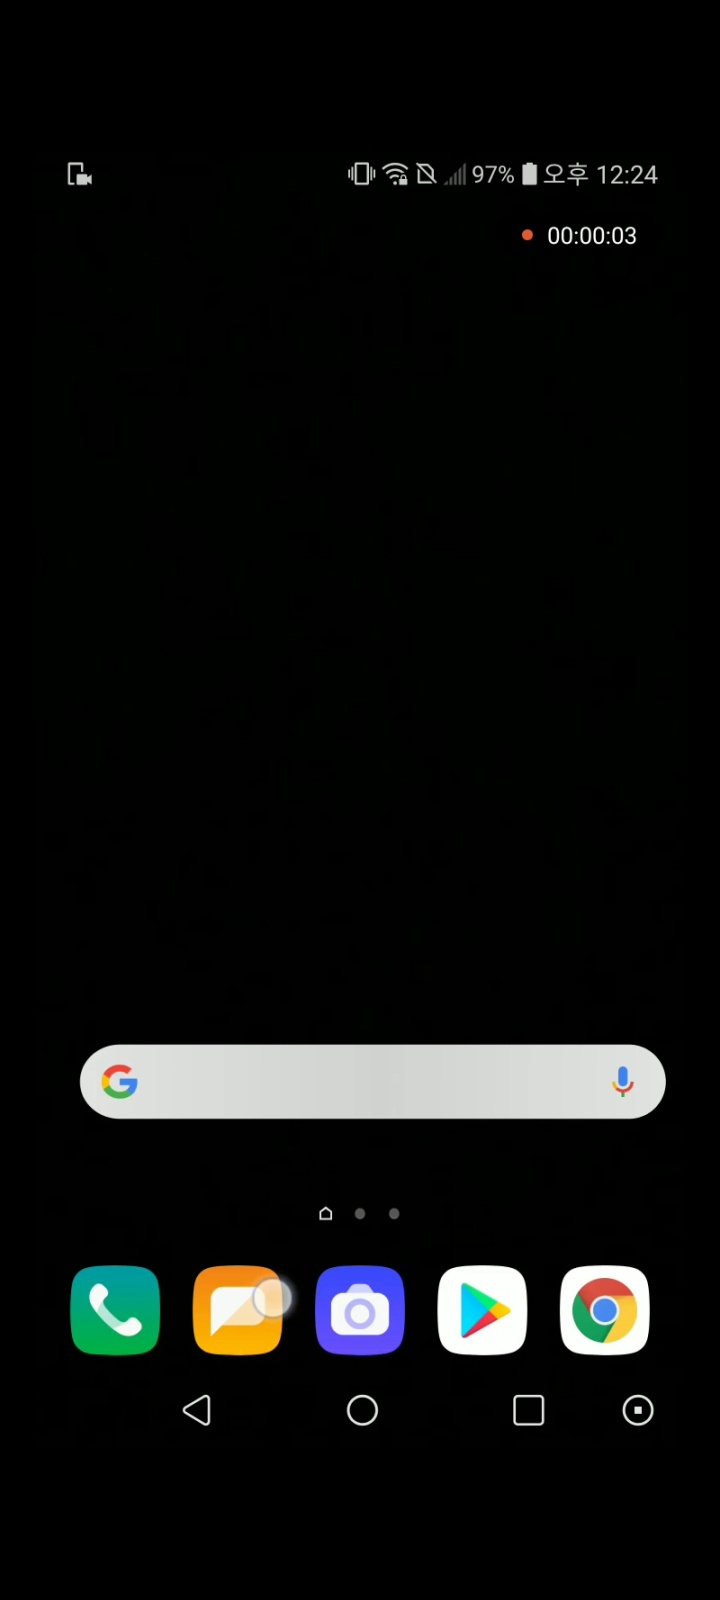Cursor: (251, 1278, 296, 1323)
